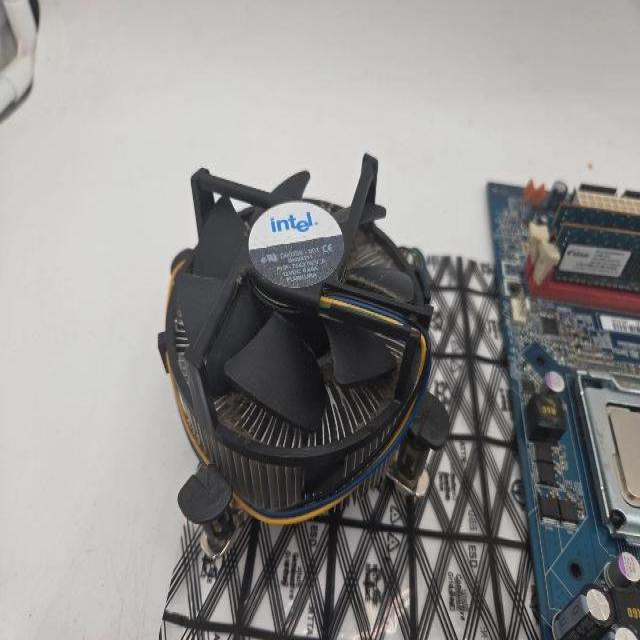CPU_Fan: (156, 151, 452, 548)
